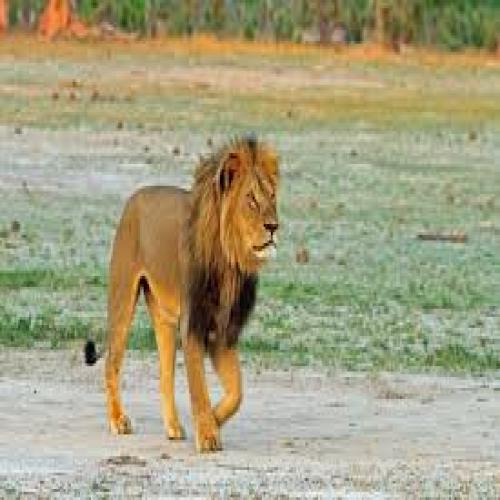lion-endangered: (84, 137, 283, 459)
